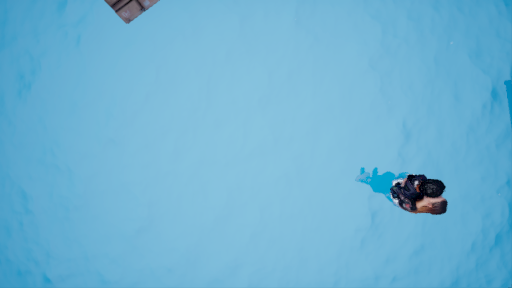person: (356, 166, 452, 218)
